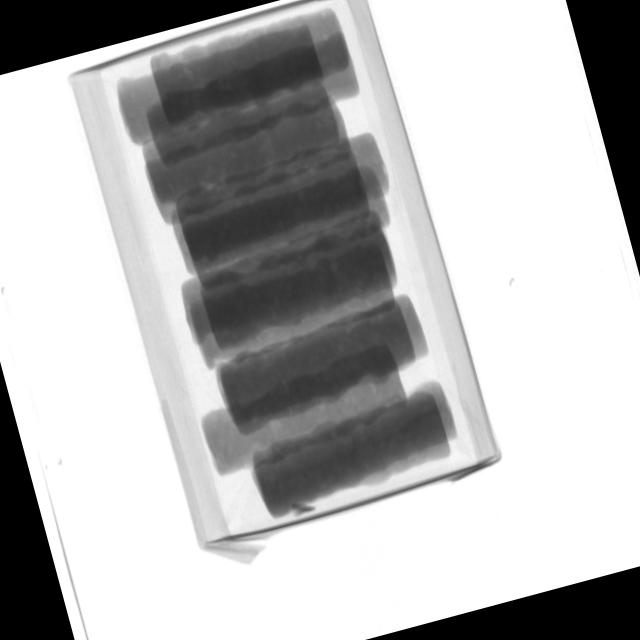ym: (292, 498, 316, 516)
